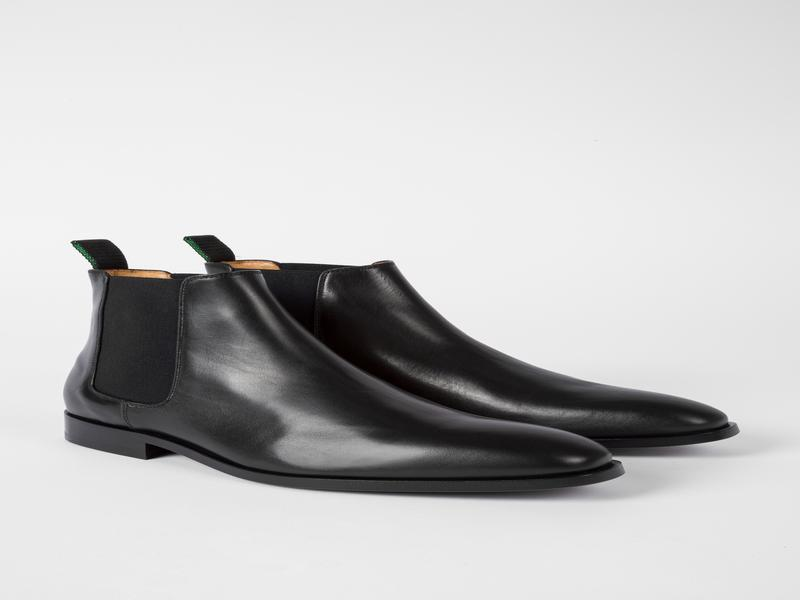shoes_men_chelsea_chelseaboots_leather_none_none_black_none: (47, 267, 650, 508)
